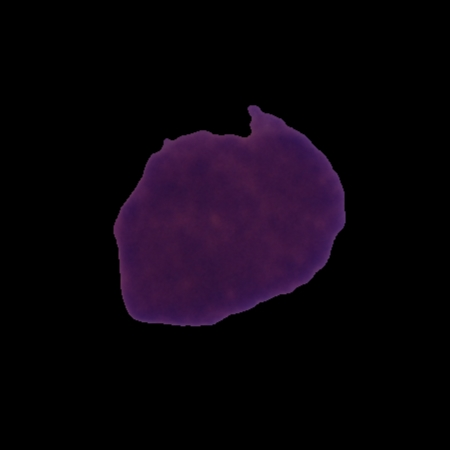ALL: (109, 102, 349, 329)
